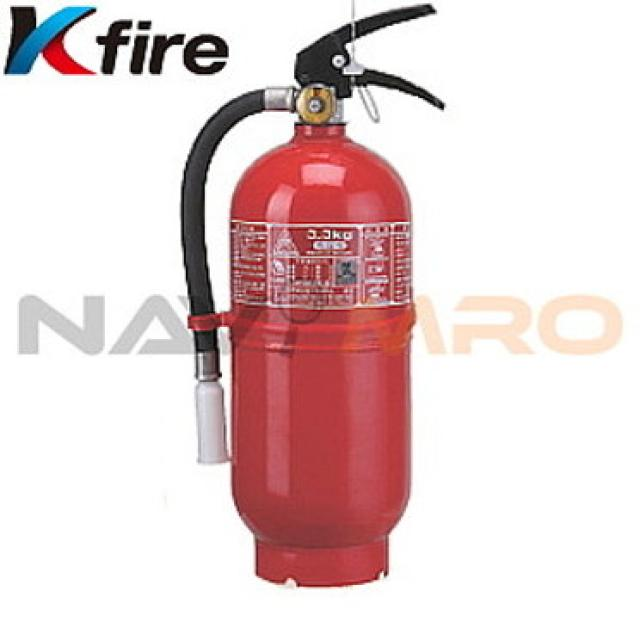pressure gauge: (296, 84, 332, 124)
